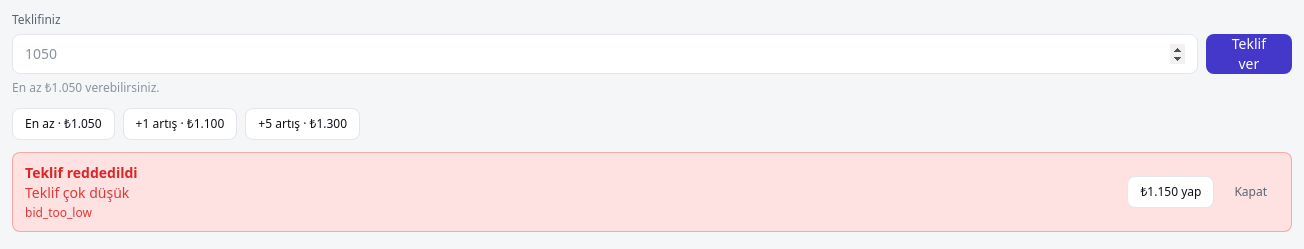
it: BidForm › offers a one-click fix to the floor the rejection named
Expected: the message shows "Teklif çok düşük", x1=25 y1=183 x2=129 y2=202
Click the button "₺1.150 yap" at [1171, 192], box x1=1128 y1=176 x2=1214 y2=208
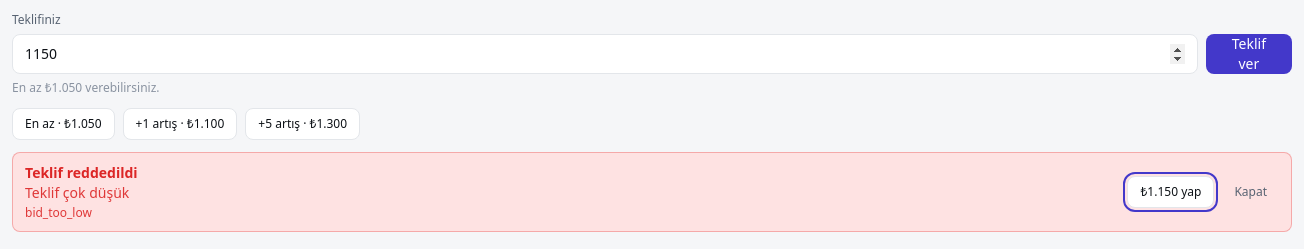
Result: the number field labelled "Teklifiniz" holds "1150" at x1=12 y1=34 x2=1198 y2=74
